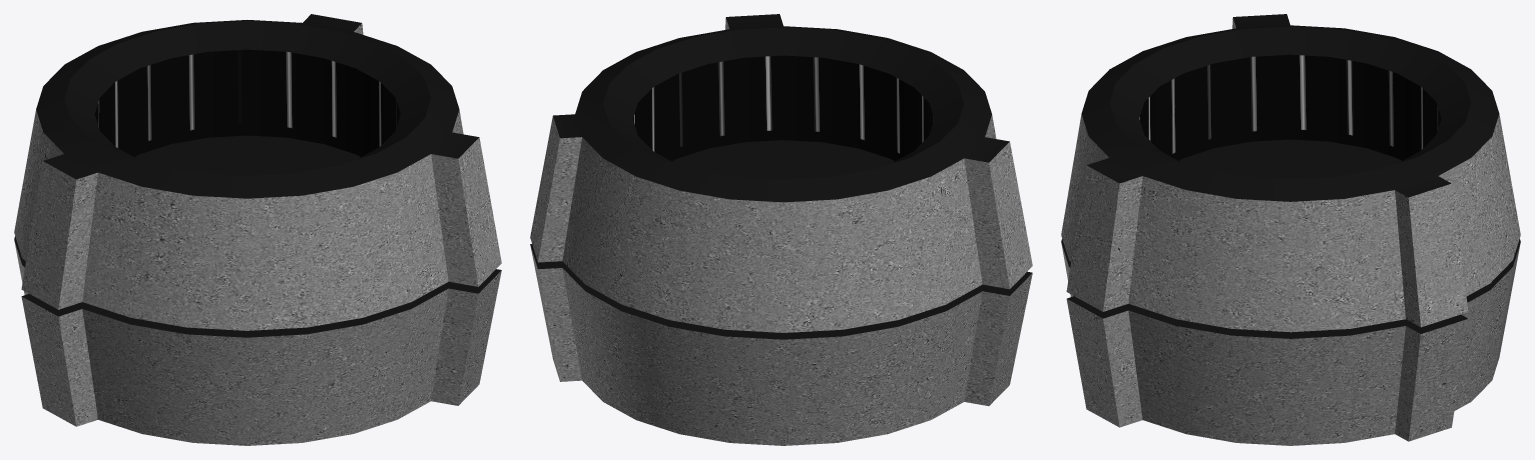
The model's file is FBX_ModuleSpacePort.fbx.
3 views of the same model, side by side, from view 1: azimuth 30°, elevation 25°; view 2: azimuth 150°, elevation 25°; view 3: azimuth 270°, elevation 25° (orthographic).
Parts seen in each view (by area): view 1: Module SpacePort Export; view 2: Module SpacePort Export; view 3: Module SpacePort Export.
Boxes of the visible parts, bbox=[...] form: Module SpacePort Export: bbox=[14, 14, 501, 445]; Module SpacePort Export: bbox=[530, 14, 1032, 445]; Module SpacePort Export: bbox=[1061, 14, 1520, 445].
Bounding box in the file's own units: 2.11 × 1.98 × 1.26.
